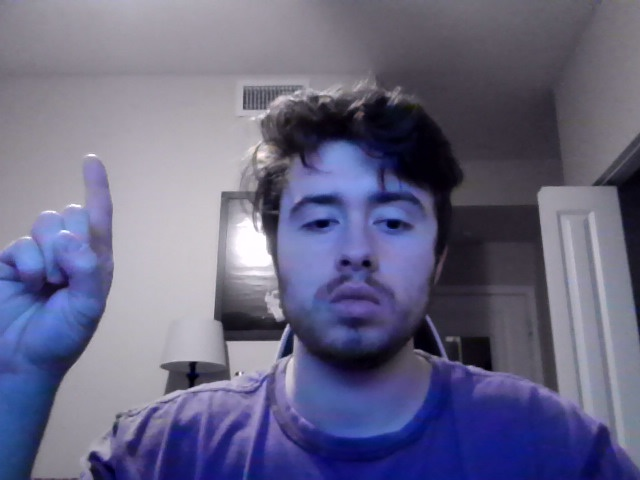d: (1, 154, 115, 383)
